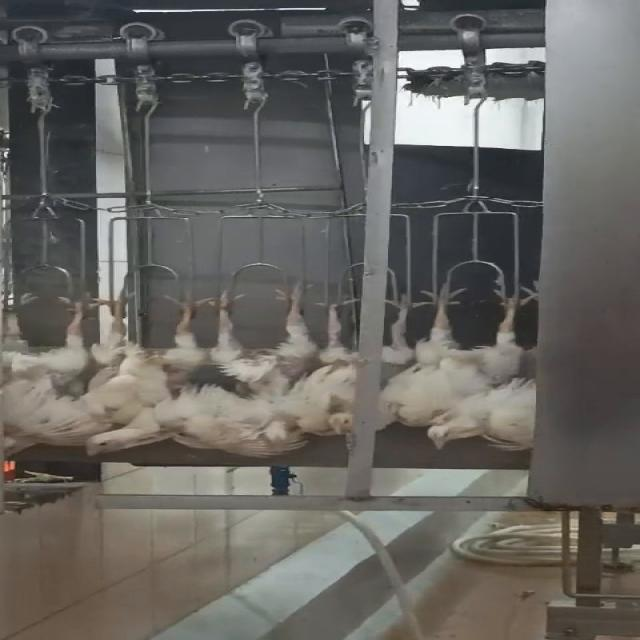chicken: (381, 276, 538, 453), (185, 282, 309, 463), (82, 292, 213, 458), (0, 291, 91, 461), (279, 297, 373, 437)
